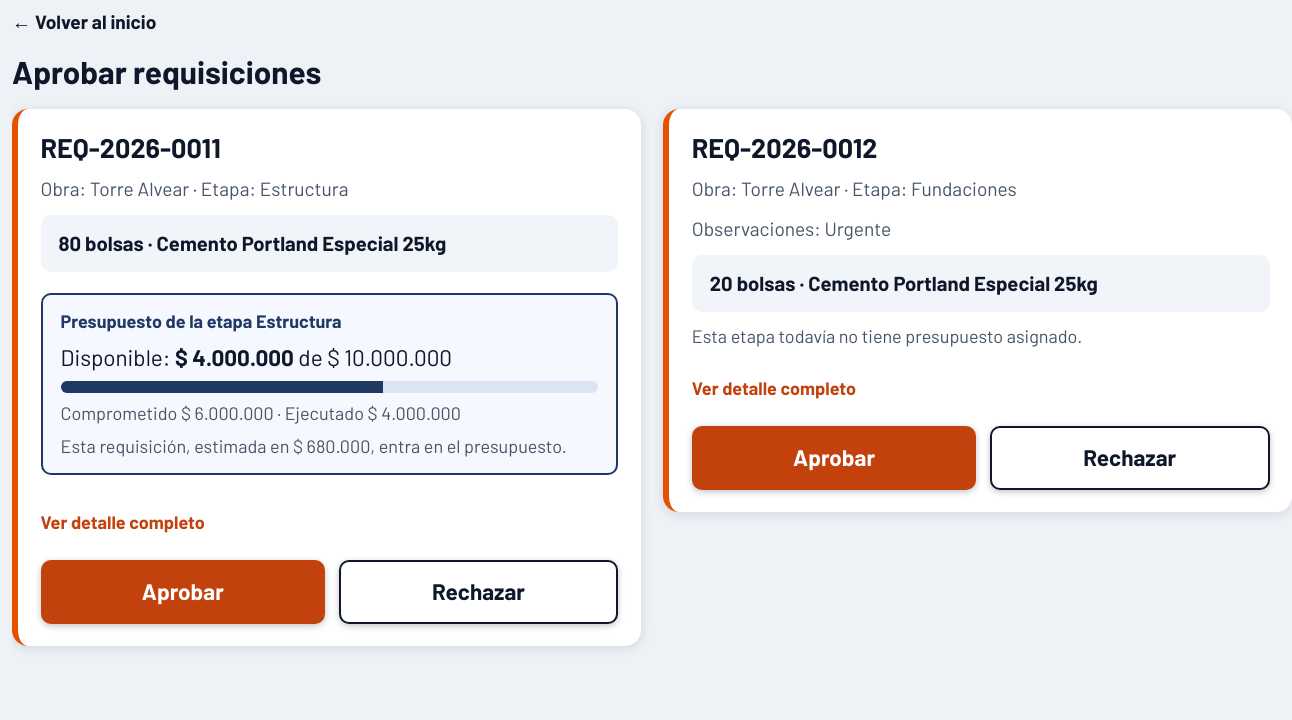
it: AprobarRequisicionesPage › muestra el detalle del servidor ante un 409 y conserva la lista
Expected: the heading "REQ-2026-0011" is shown, [40,131,221,163]
Click the button with aria-label "Aprobar REQ-2026-0011".
click(183, 592)  # box [40,560,325,624]
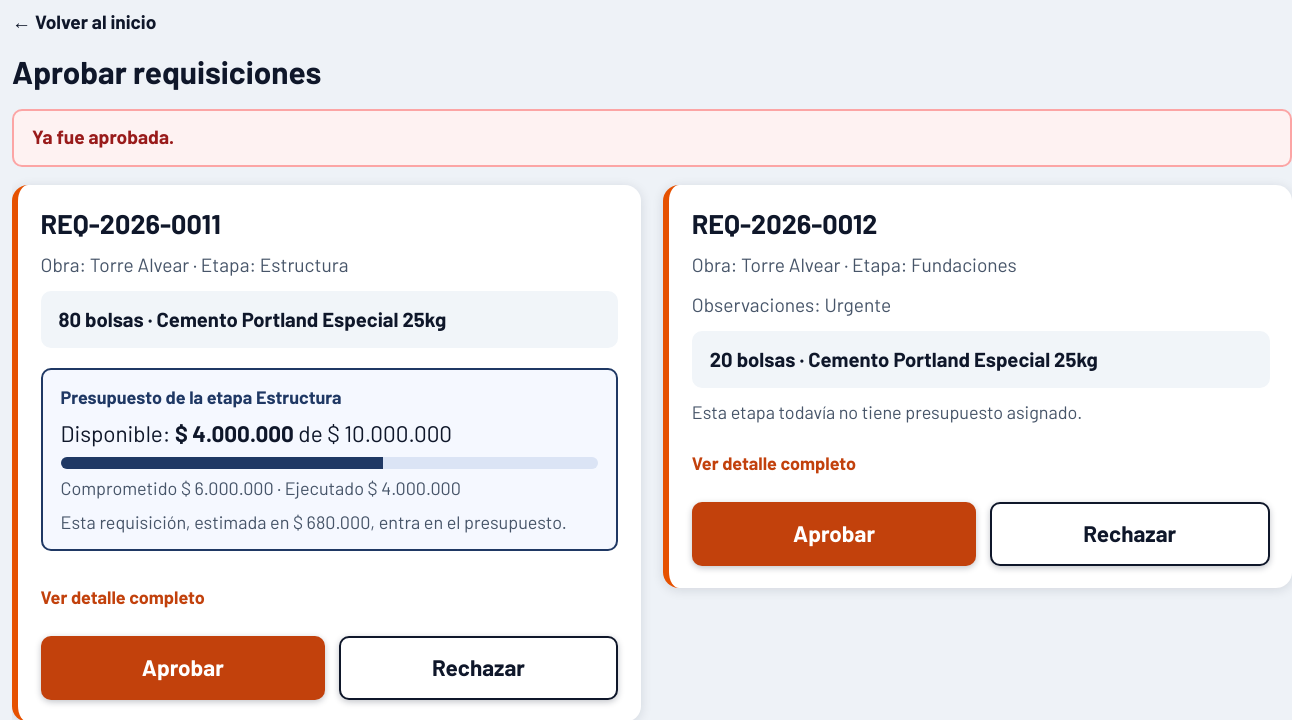
Expected: the heading "REQ-2026-0011" is shown, [40,207,221,239]
Now the message reads "Ya fue aprobada.", box [32,125,174,148]
